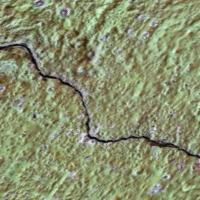crack: (0, 34, 199, 177)
